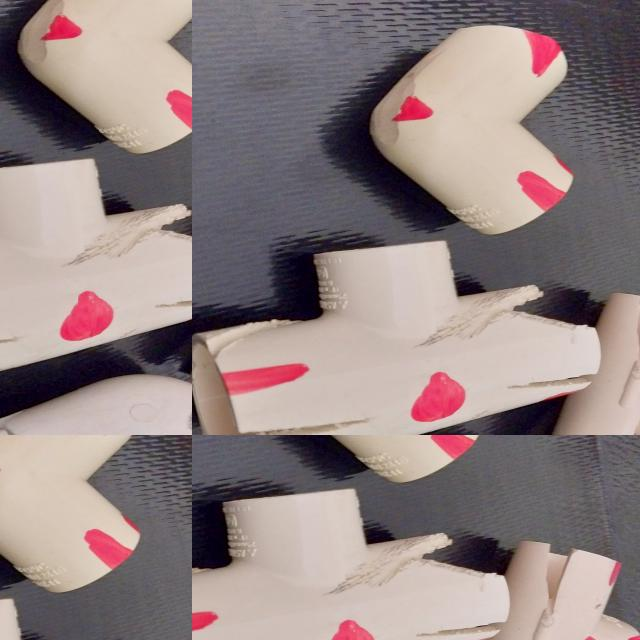Defective: (0, 59, 99, 211), (16, 292, 78, 409), (134, 55, 173, 119), (411, 620, 510, 640), (548, 549, 578, 612), (603, 560, 623, 616), (322, 622, 373, 640), (192, 609, 221, 640), (428, 435, 470, 454)
L Joint: (276, 435, 481, 482)
T Joint: (0, 41, 192, 429), (192, 486, 533, 640), (192, 0, 235, 24)
